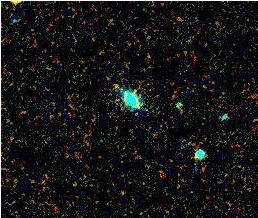star: (101, 70, 131, 100)
